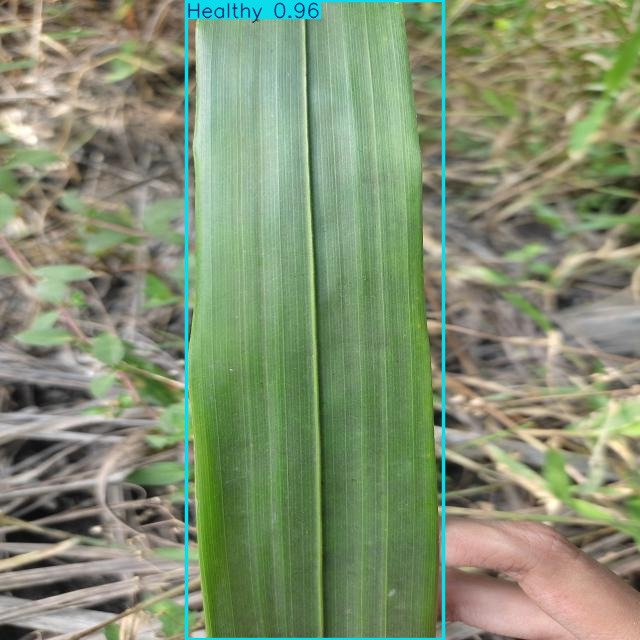Healthy: (186, 0, 443, 640)
